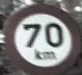Speed limit: (4, 2, 75, 70)
